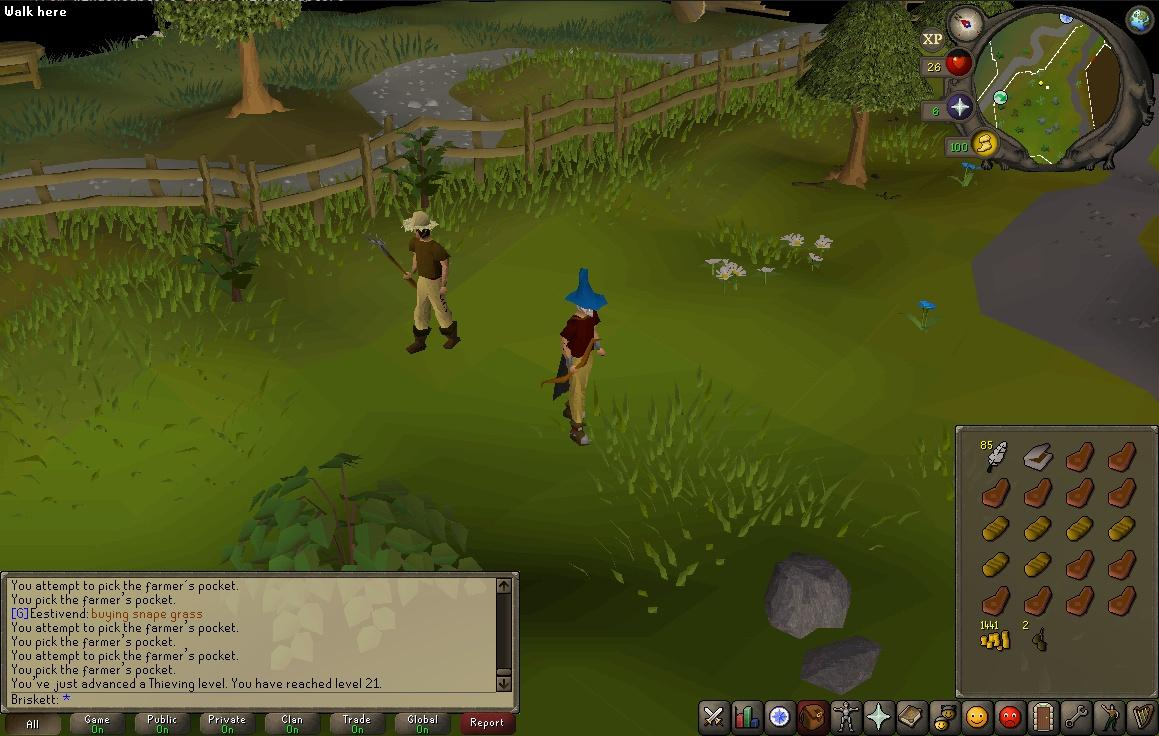Farmer: (401, 211, 462, 354)
